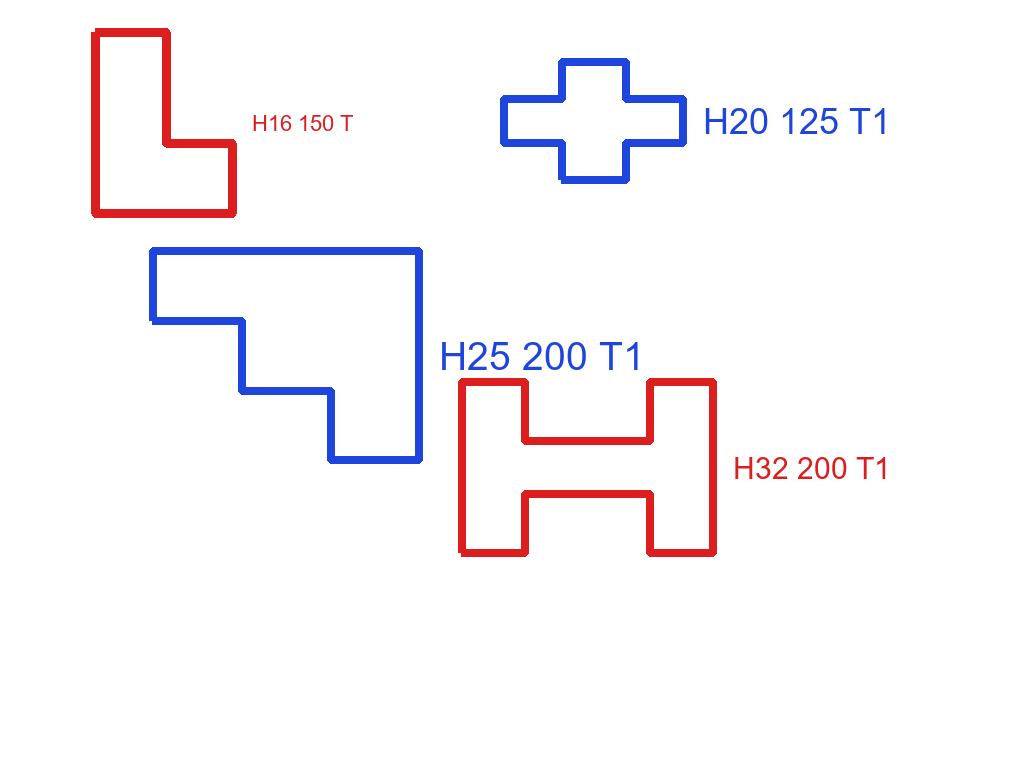shape: (147, 245, 425, 466), (455, 376, 719, 559), (89, 26, 239, 220), (498, 56, 689, 186)
text: (437, 340, 647, 372), (701, 106, 893, 136), (731, 455, 893, 481), (250, 113, 355, 133)
